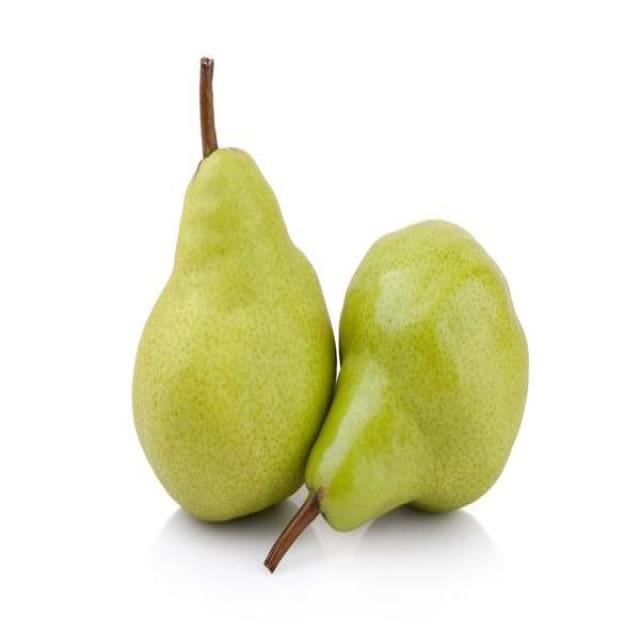Pear: (134, 61, 330, 522), (280, 216, 530, 575)
